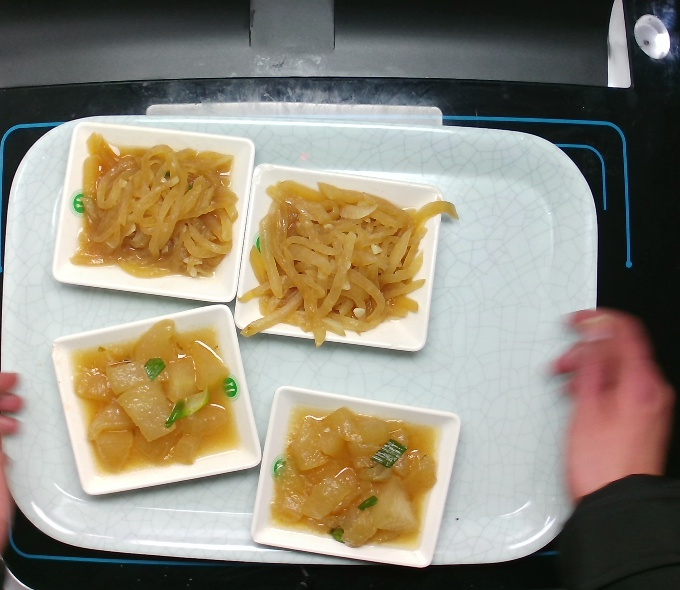wcq-DongGua: (266, 400, 451, 559), (71, 313, 256, 472)
wcq-LuoBoSi: (233, 166, 461, 348), (59, 121, 250, 298)
